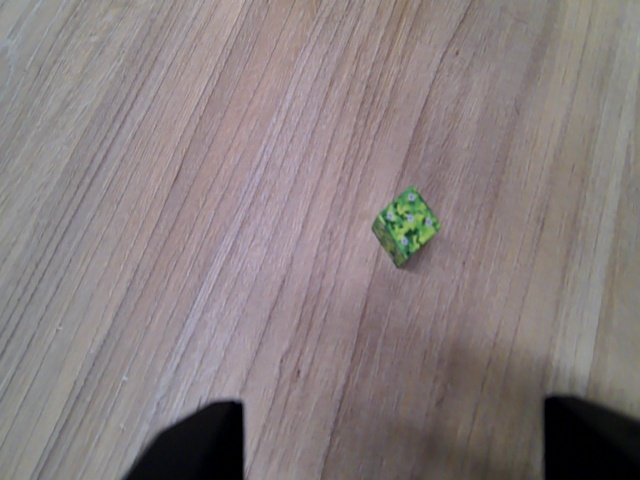grass: (371, 188, 441, 267)
